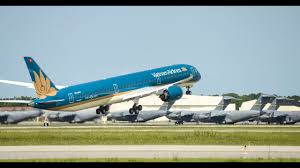maybay_dansu: (10, 52, 214, 124)
